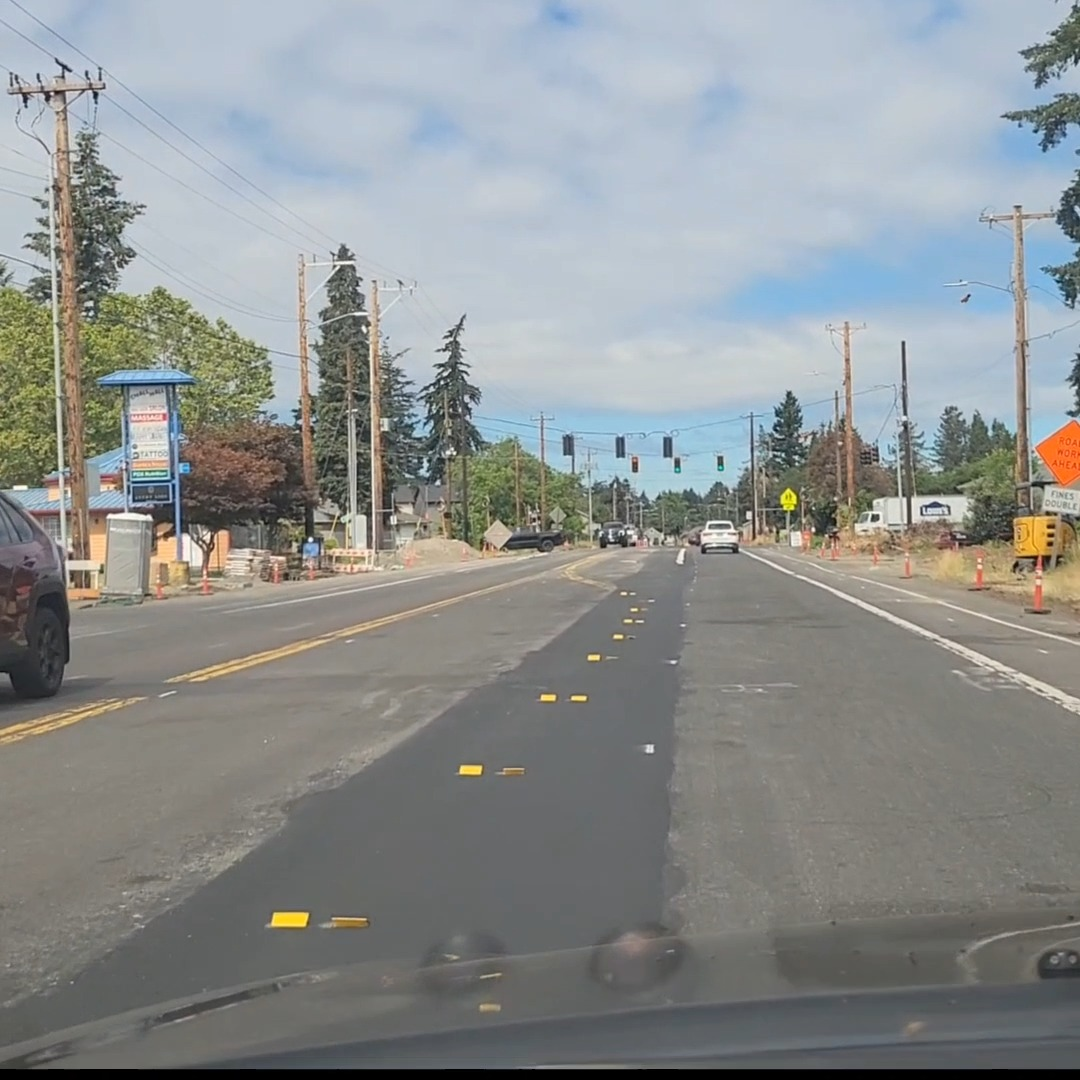car: (0, 483, 70, 694), (500, 526, 566, 553), (697, 520, 740, 554), (597, 521, 637, 549)
crosswalk-sign: (779, 487, 797, 511)
delineator: (1024, 562, 1052, 615), (967, 549, 989, 590), (898, 540, 914, 578), (154, 568, 166, 599), (200, 567, 212, 594), (157, 561, 169, 585), (829, 535, 839, 560), (306, 555, 316, 579), (870, 539, 879, 565), (272, 560, 280, 583), (818, 534, 826, 556), (849, 533, 857, 555), (460, 545, 469, 560)
